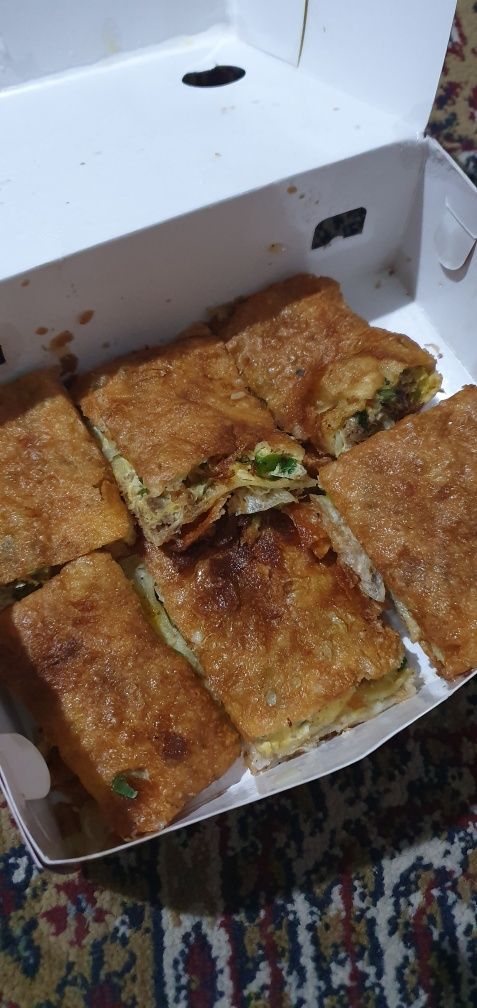martabak telor: (1, 557, 248, 824), (141, 517, 415, 747), (79, 331, 312, 513), (218, 273, 430, 434)
